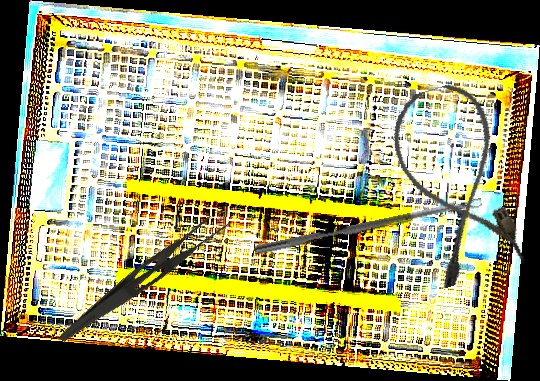Cannula: (381, 76, 531, 291)
Dressing Forceps: (57, 202, 233, 360)
Surgical Spoon: (253, 197, 483, 257)
